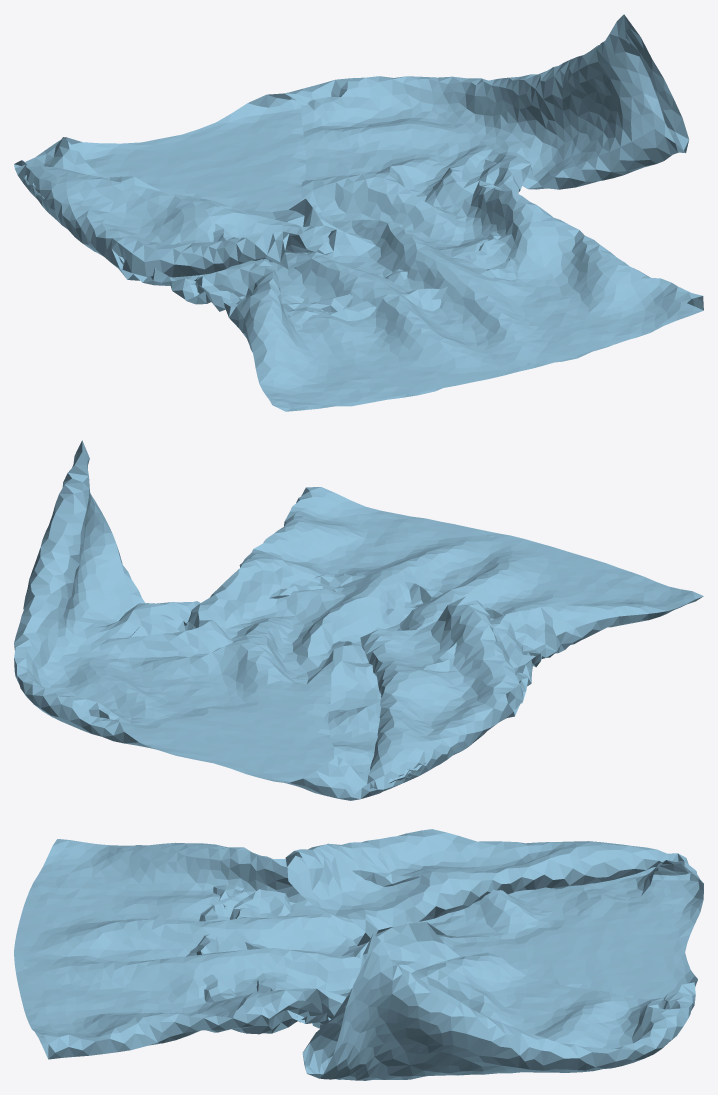
File: frame_07.glb
3 renders of one model, top to bottom at view 1: azimuth 30°, elevation 25°; view 2: azimuth 150°, elevation 25°; view 3: azimuth 270°, elevation 25°, orthographic. The views are drawn at different scales.
Visible parts, largest first — view 1: frame_07.obj; view 2: frame_07.obj; view 3: frame_07.obj.
Part boxes in pixels (x1=…): frame_07.obj: x1=14, y1=14, x2=703, y2=411; frame_07.obj: x1=14, y1=440, x2=703, y2=800; frame_07.obj: x1=14, y1=829, x2=703, y2=1080.
Size of the model in its own units: 1.48 by 0.4351 by 1.58.
